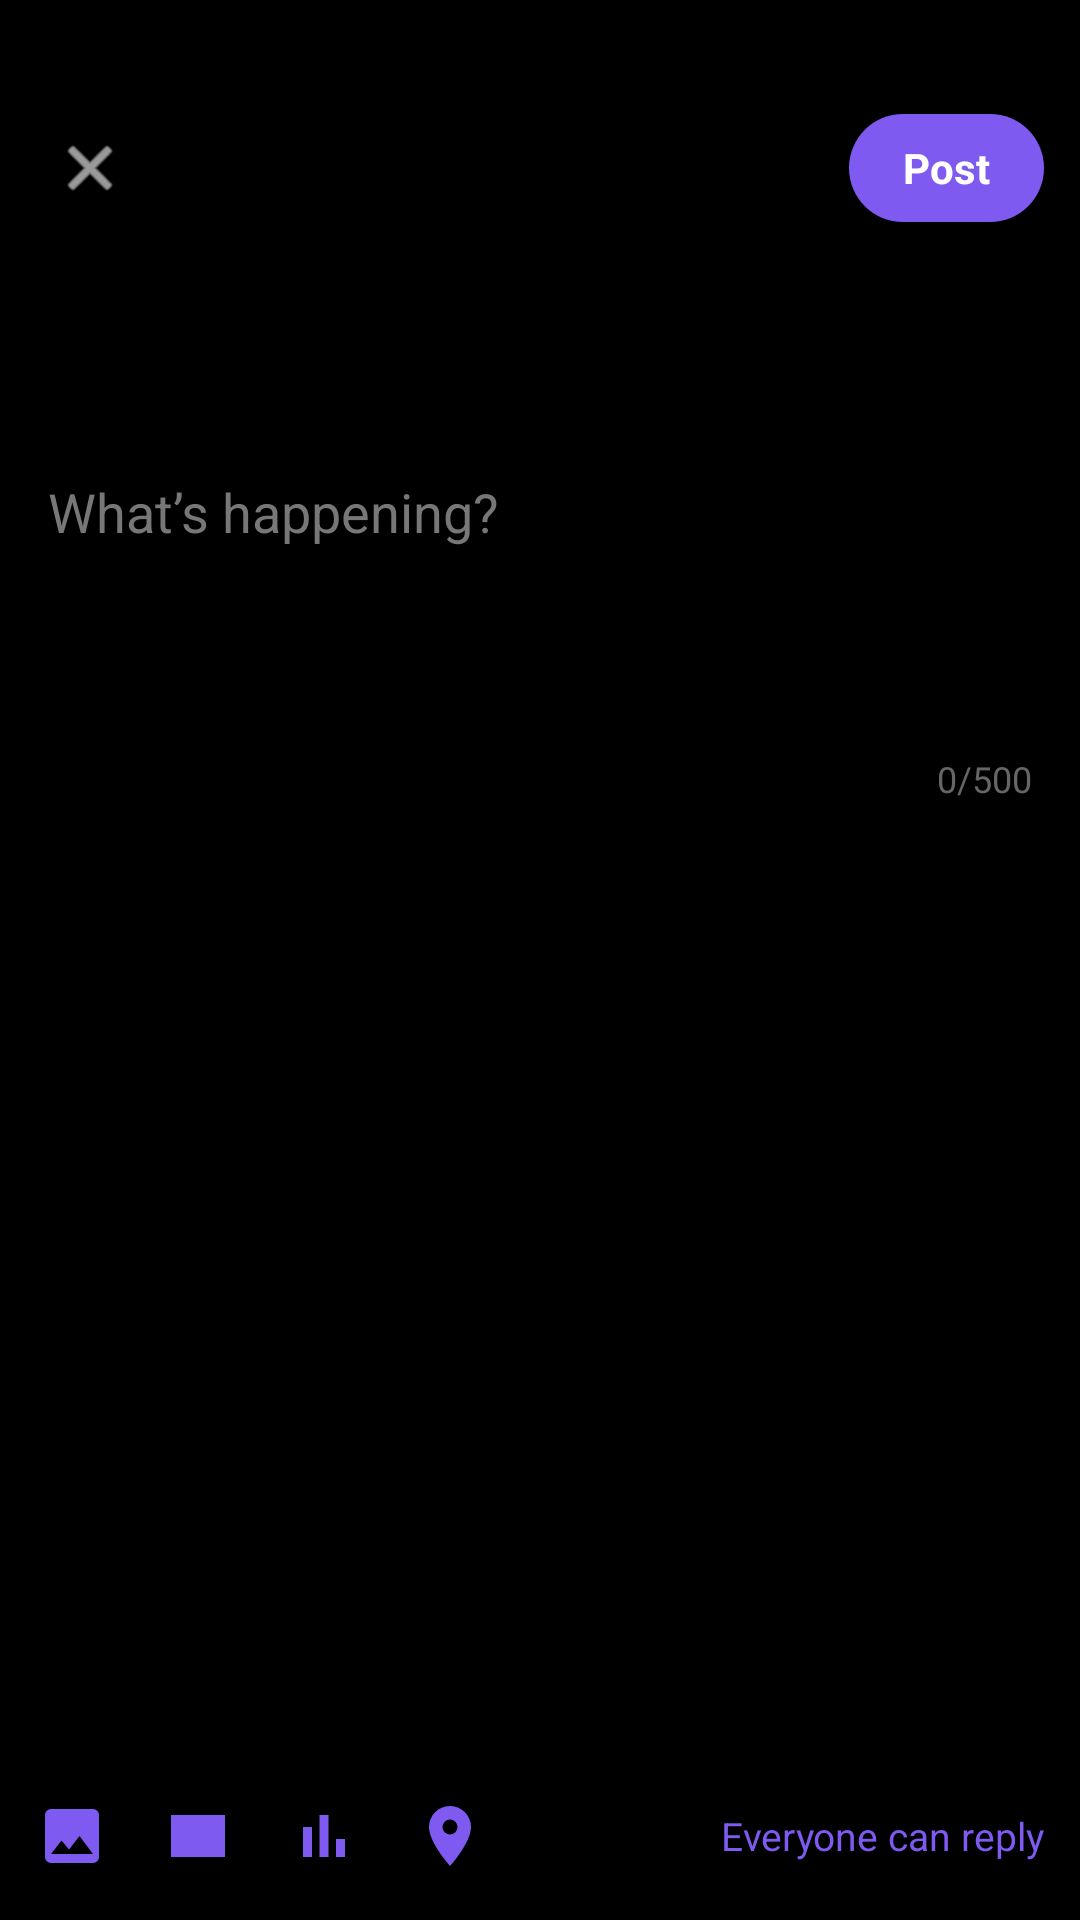

Locate icon controls on the screen. Image size 1080×1920, boxes as {"x1": x1, "y1": y1, "x2": x2, "y2": y2}.
close clear cancel: {"x1": 67, "y1": 145, "x2": 113, "y2": 191}
location: {"x1": 429, "y1": 1806, "x2": 471, "y2": 1866}
poll: {"x1": 303, "y1": 1815, "x2": 345, "y2": 1857}
